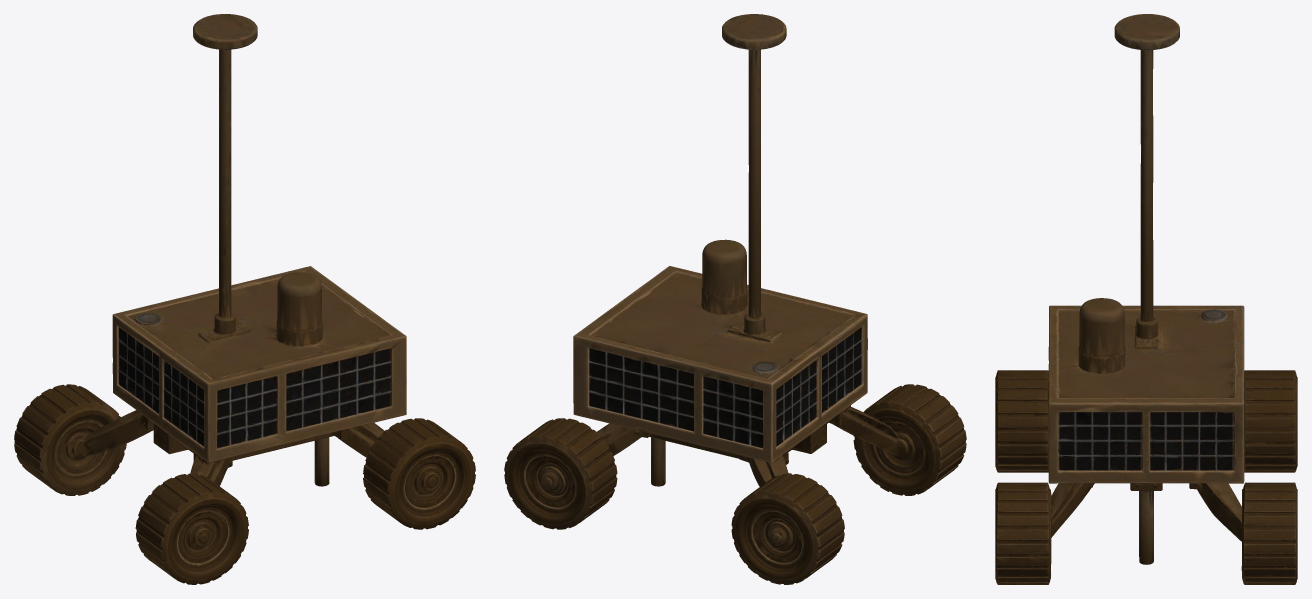
The model's file is shackleton.glb.
The picture shows the model from 3 angles, left to right: view 1: azimuth 30°, elevation 25°; view 2: azimuth 150°, elevation 25°; view 3: azimuth 270°, elevation 25°; orthographic projection.
Size of the model in its own units: 1.31 by 1.9 by 1.07.
1 material, 1 textured.
